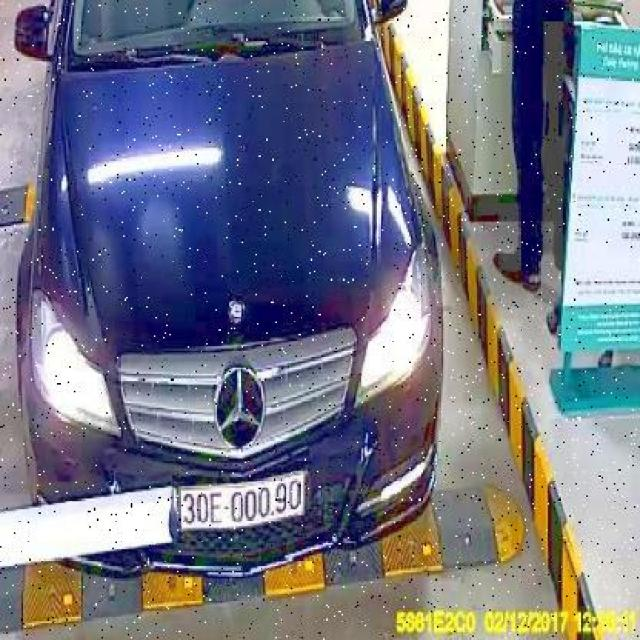number_plate: (179, 471, 315, 526)
